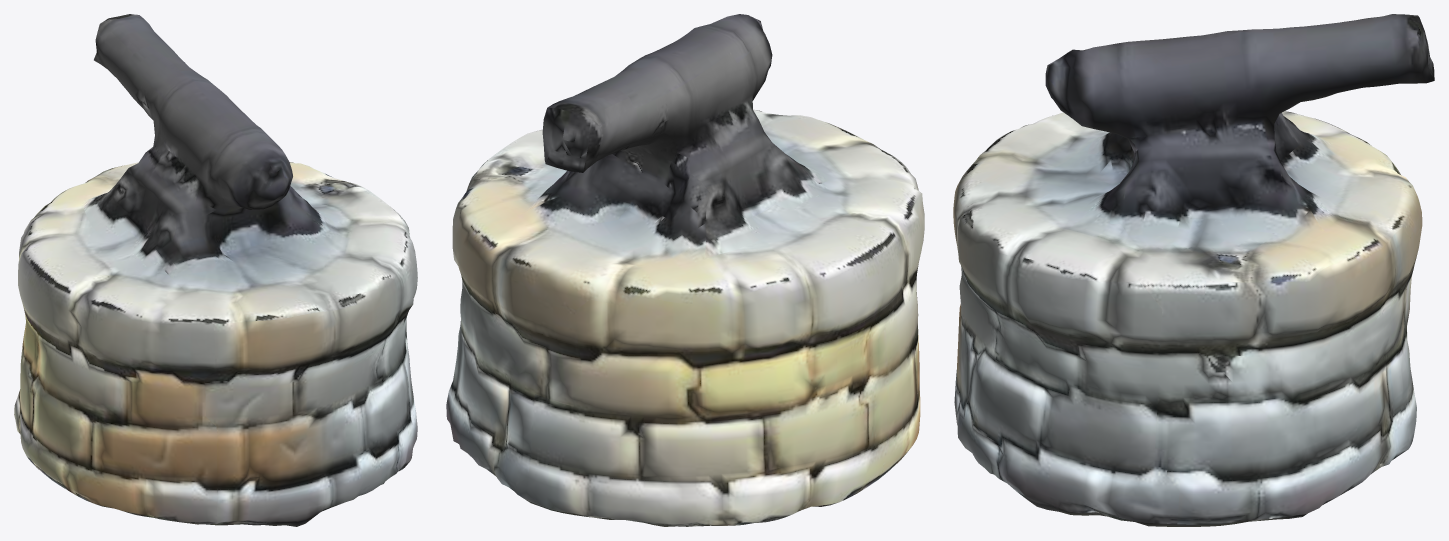
File: cannon-BDzHGHqm.glb
The picture shows the model from 3 angles, left to right: view 1: azimuth 30°, elevation 25°; view 2: azimuth 150°, elevation 25°; view 3: azimuth 270°, elevation 25°; orthographic projection. The views are drawn at different scales.
Bounding box in the file's own units: 0.9523 × 0.9441 × 0.9801.
Materials: 1 (1 with a texture image).
